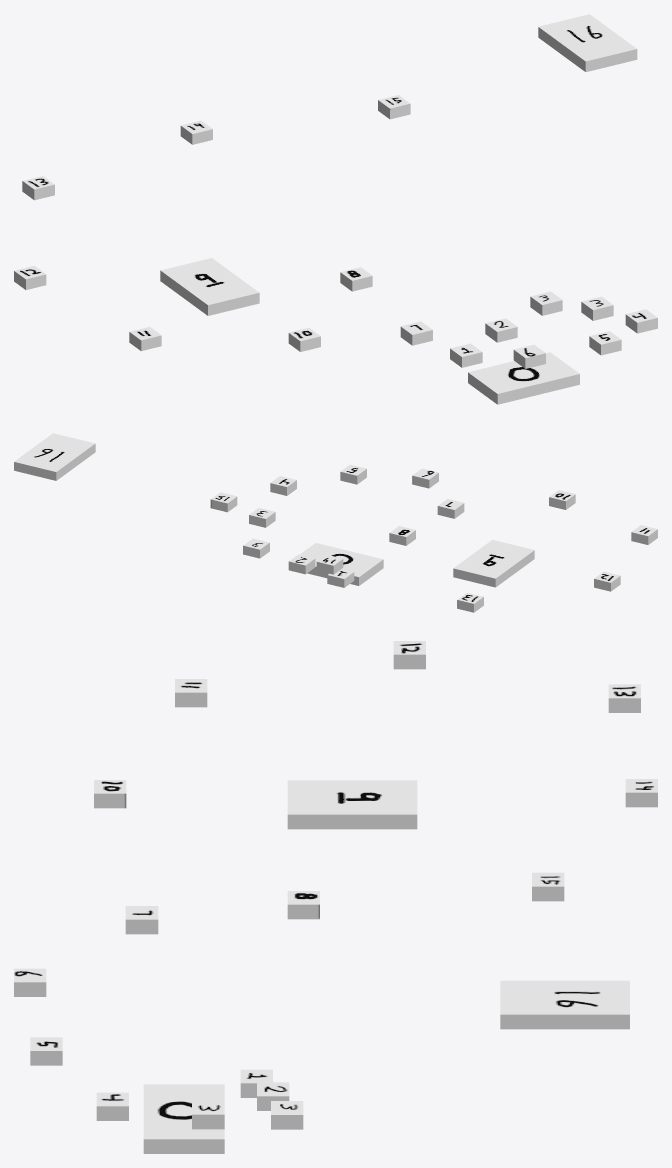
Rendered from jumptest_lvl_up_1.glb.
3 views of the same model, one above another, from view 1: azimuth 30°, elevation 25°; view 2: azimuth 150°, elevation 25°; view 3: azimuth 270°, elevation 25° (orthographic). The views are drawn at different scales.
Parts seen in each view (by area): view 1: jumpup1test; view 2: jumpup1test; view 3: jumpup1test.
Part boxes in pixels (x1,y1,x2,y2): jumpup1test: (14,14,657,404); jumpup1test: (14,433,657,612); jumpup1test: (14,641,657,1153).
Bounding box in the file's own units: 63.17 × 18 × 39.76.
Materials: 1 (1 with a texture image).
